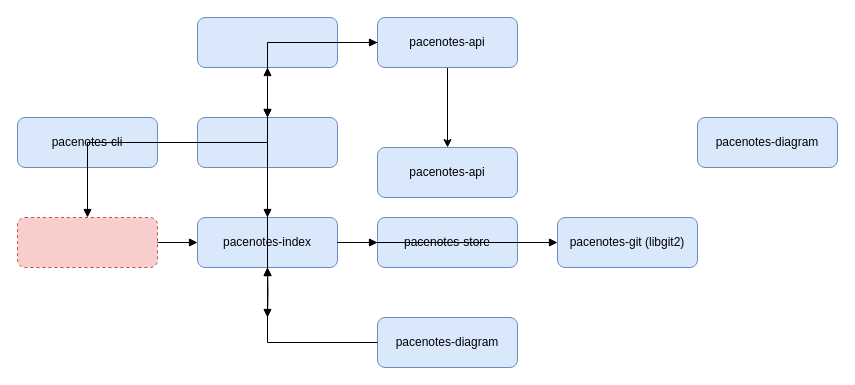
The diagram is 855 pixels wide and 385 high, and some of its shapes have lost their labels. Here are the shapes that lost their labels. From the top down, the box of each, then its label:
(196, 16, 338, 68): pacenotes-app
(196, 116, 338, 168): pacenotes-core
(16, 216, 158, 268): pacenotes-parse
